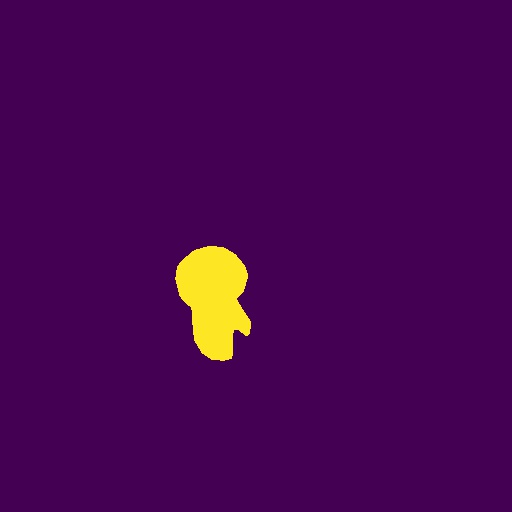Pituirity_tumour: (175, 246, 251, 361)
